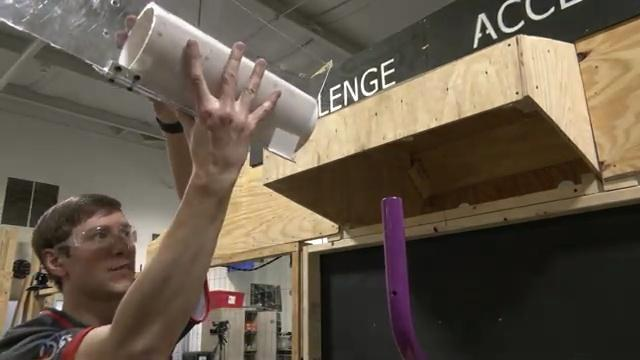CORAL: (115, 1, 320, 162)
